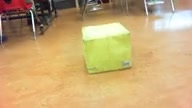cube: (81, 22, 134, 74)
